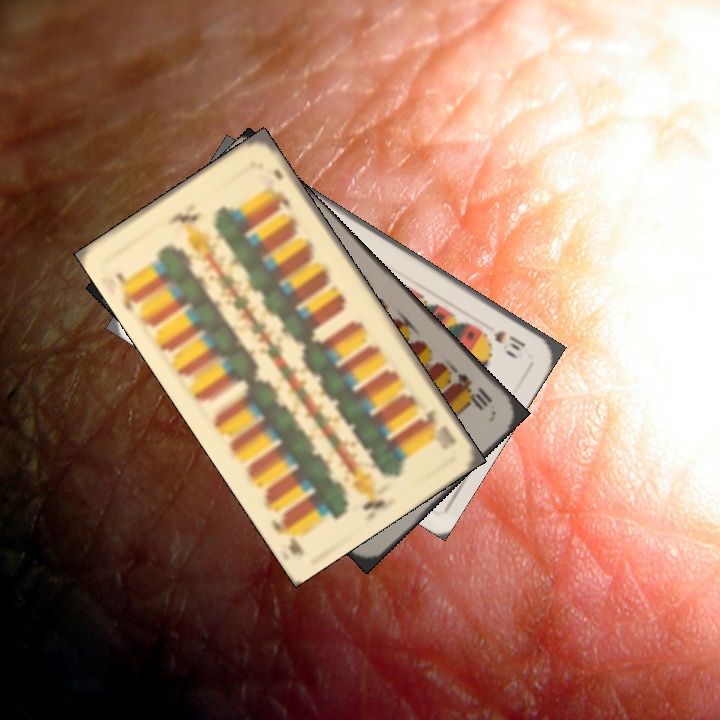E10: (451, 369, 496, 413), (416, 405, 459, 448), (112, 268, 140, 316)
S10: (489, 326, 529, 354)
